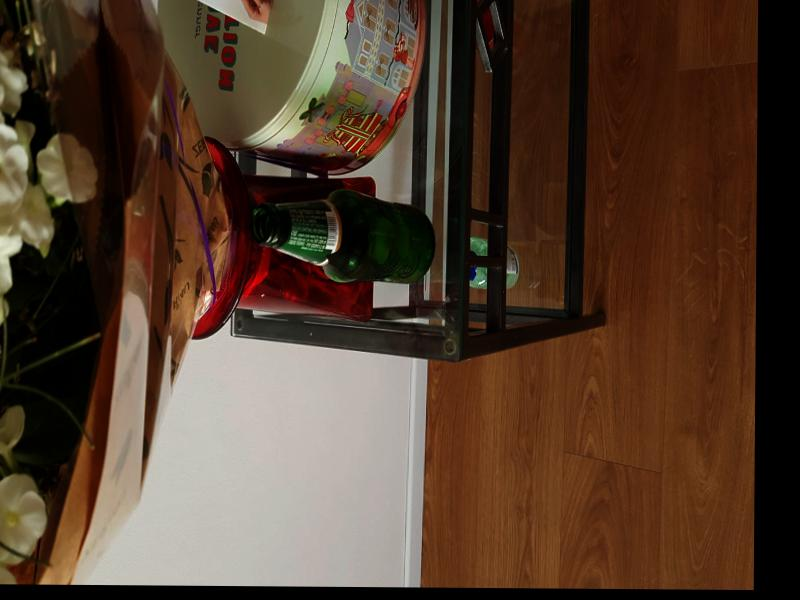Beer: (251, 188, 437, 284)
